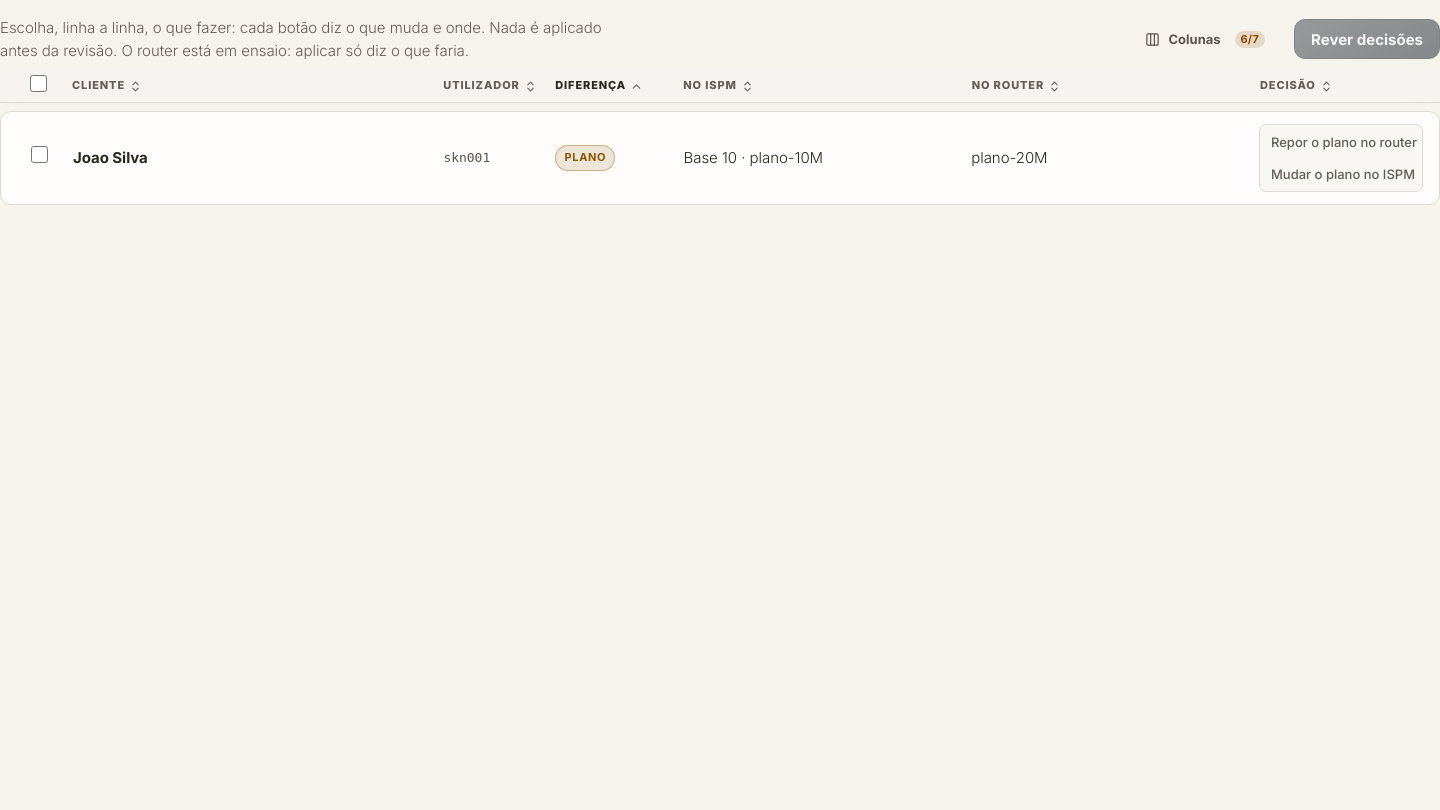
Scenario: em ensaio o botão diz que é ensaio
The image size is (1440, 810).
Click the button "Repor o plano no router": (1341, 142) x1=1262 y1=126 x2=1420 y2=157
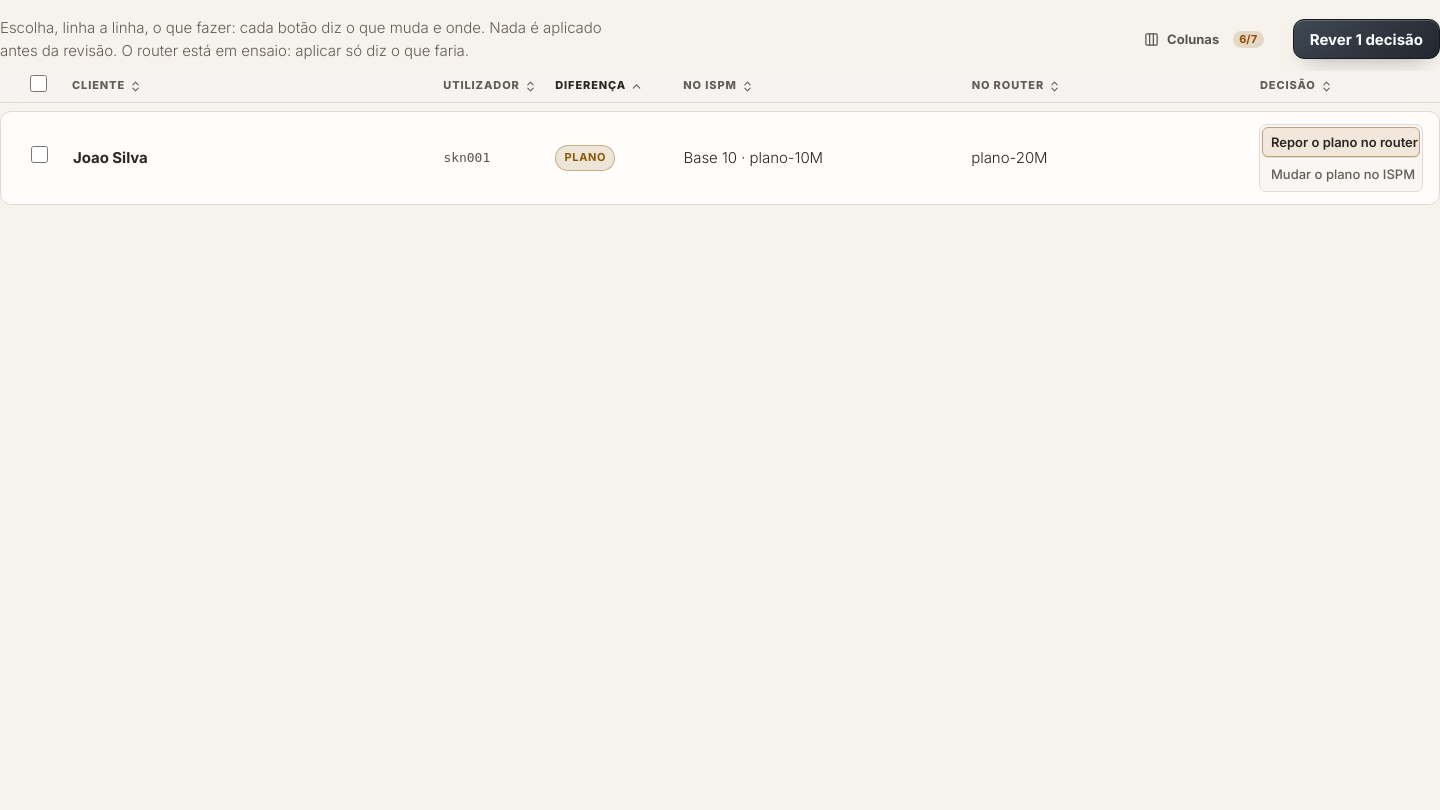
Click the button "Rever 1 decisão": (1366, 39) x1=1293 y1=19 x2=1439 y2=59
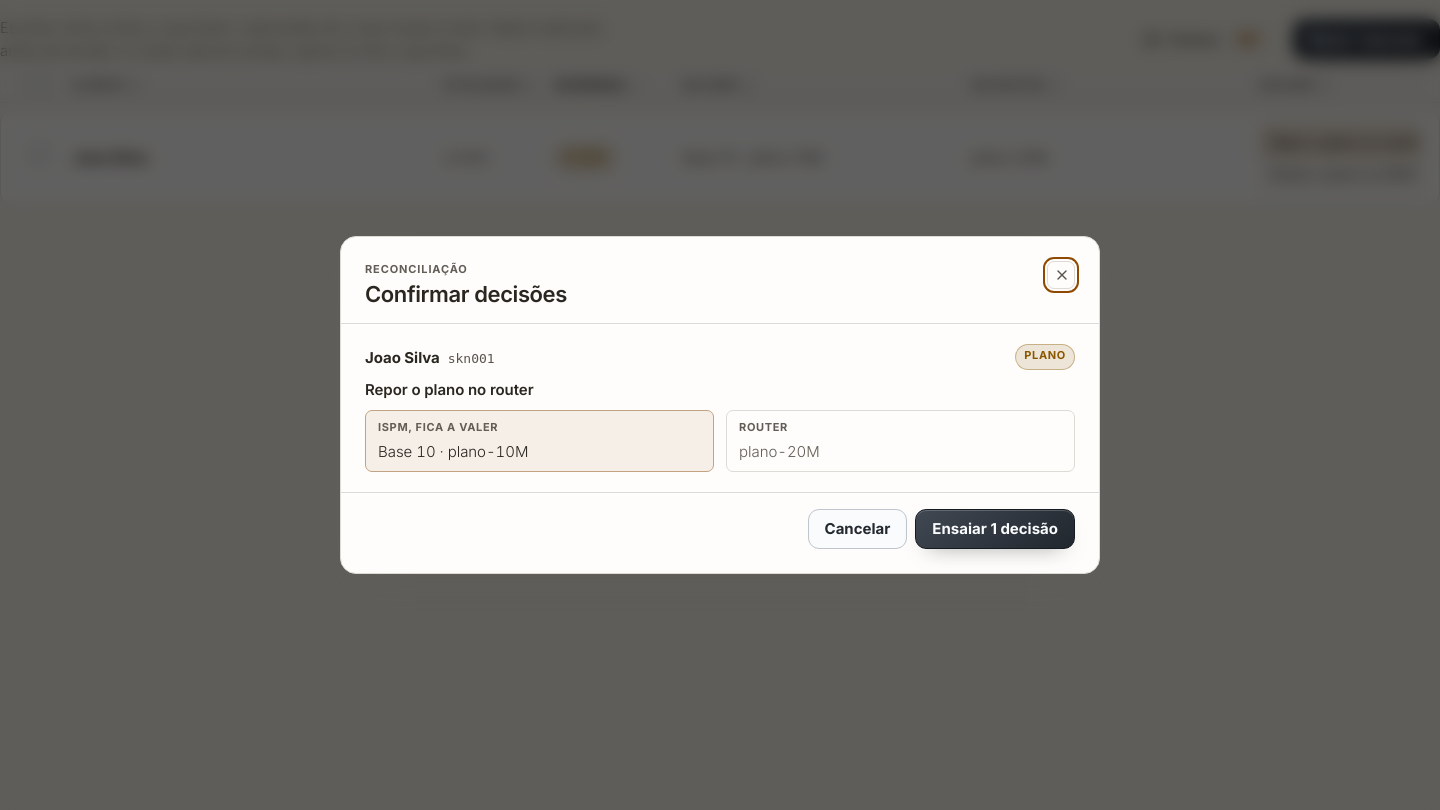
Now the button "Ensaiar 1 decisão" is shown, box x1=915 y1=509 x2=1075 y2=549
